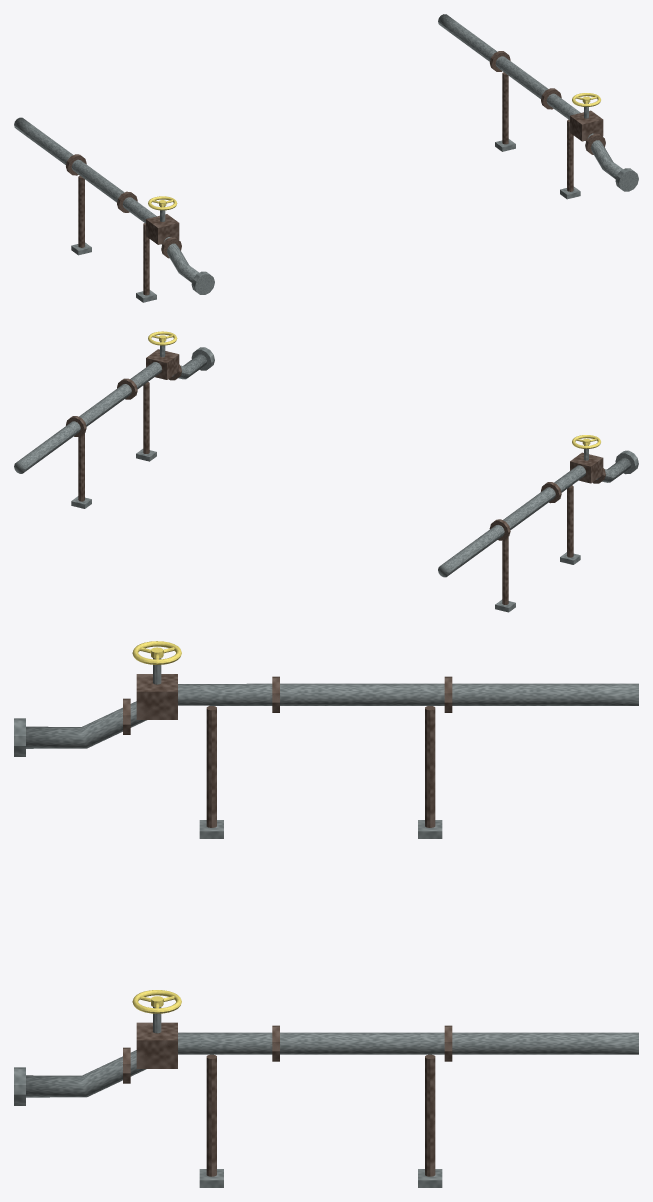
File: PZ_Transfer_Pipes_And_Separate_Valves.glb
The picture shows the model from 3 angles, top to bottom: view 1: azimuth 30°, elevation 25°; view 2: azimuth 150°, elevation 25°; view 3: azimuth 270°, elevation 25°; orthographic projection. The views are drawn at different scales.
Visible parts, largest first — view 1: Pipe_Run_01_From_Tank_To_Pump, Pipe_Run_02_From_Tank_To_Pump, FITTING_2_IsolationValve_Body, FITTING_1_IsolationValve_Body, Pipe_Support_Post_1_0, Pipe_Support_Post_2_0, Pipe_Support_Post_1_1, Pipe_Support_Post_2_1, FITTING_1_Pump_Inlet_Coupling, FITTING_2_Pump_Inlet_Coupling; view 2: Pipe_Run_01_From_Tank_To_Pump, Pipe_Run_02_From_Tank_To_Pump, FITTING_1_IsolationValve_Body, FITTING_2_IsolationValve_Body, Pipe_Support_Post_1_1, Pipe_Support_Post_2_1, Pipe_Support_Post_2_0, Pipe_Support_Post_1_0; view 3: Pipe_Run_02_From_Tank_To_Pump, Pipe_Run_01_From_Tank_To_Pump, FITTING_2_IsolationValve_Body, FITTING_1_IsolationValve_Body, Pipe_Support_Post_2_0, Pipe_Support_Post_2_1, Pipe_Support_Post_1_0, Pipe_Support_Post_1_1, FITTING_1_IsolationValve_Wheel_PIVOT_Z, FITTING_2_IsolationValve_Wheel_PIVOT_Z.
Part boxes in pixels (x1,y1,x2,y2): Pipe_Run_01_From_Tank_To_Pump: (14, 117, 199, 282); Pipe_Run_02_From_Tank_To_Pump: (438, 14, 622, 179); FITTING_2_IsolationValve_Body: (570, 110, 603, 141); FITTING_1_IsolationValve_Body: (146, 214, 179, 244); Pipe_Support_Post_1_0: (78, 175, 84, 247); Pipe_Support_Post_2_0: (502, 72, 508, 144); Pipe_Support_Post_1_1: (143, 223, 149, 295); Pipe_Support_Post_2_1: (567, 119, 573, 191); FITTING_1_Pump_Inlet_Coupling: (191, 271, 214, 294); FITTING_2_Pump_Inlet_Coupling: (615, 168, 638, 191); Pipe_Run_01_From_Tank_To_Pump: (438, 457, 630, 577); Pipe_Run_02_From_Tank_To_Pump: (14, 354, 207, 473); FITTING_1_IsolationValve_Body: (570, 452, 603, 483); FITTING_2_IsolationValve_Body: (146, 349, 179, 379); Pipe_Support_Post_1_1: (567, 485, 573, 557); Pipe_Support_Post_2_1: (143, 382, 149, 453); Pipe_Support_Post_2_0: (78, 433, 84, 501); Pipe_Support_Post_1_0: (502, 537, 508, 604); Pipe_Run_02_From_Tank_To_Pump: (26, 1032, 638, 1097); Pipe_Run_01_From_Tank_To_Pump: (26, 683, 638, 748); FITTING_2_IsolationValve_Body: (136, 1022, 177, 1068); FITTING_1_IsolationValve_Body: (136, 674, 177, 719); Pipe_Support_Post_2_0: (425, 1054, 435, 1176); Pipe_Support_Post_2_1: (206, 1054, 216, 1176); Pipe_Support_Post_1_0: (425, 706, 435, 827); Pipe_Support_Post_1_1: (206, 706, 216, 827); FITTING_1_IsolationValve_Wheel_PIVOT_Z: (132, 641, 181, 664); FITTING_2_IsolationValve_Wheel_PIVOT_Z: (132, 990, 181, 1013).
Bounding box in the file's own units: 7.21 × 1.67 × 5.15.
Materials: 3 (3 with a texture image).
